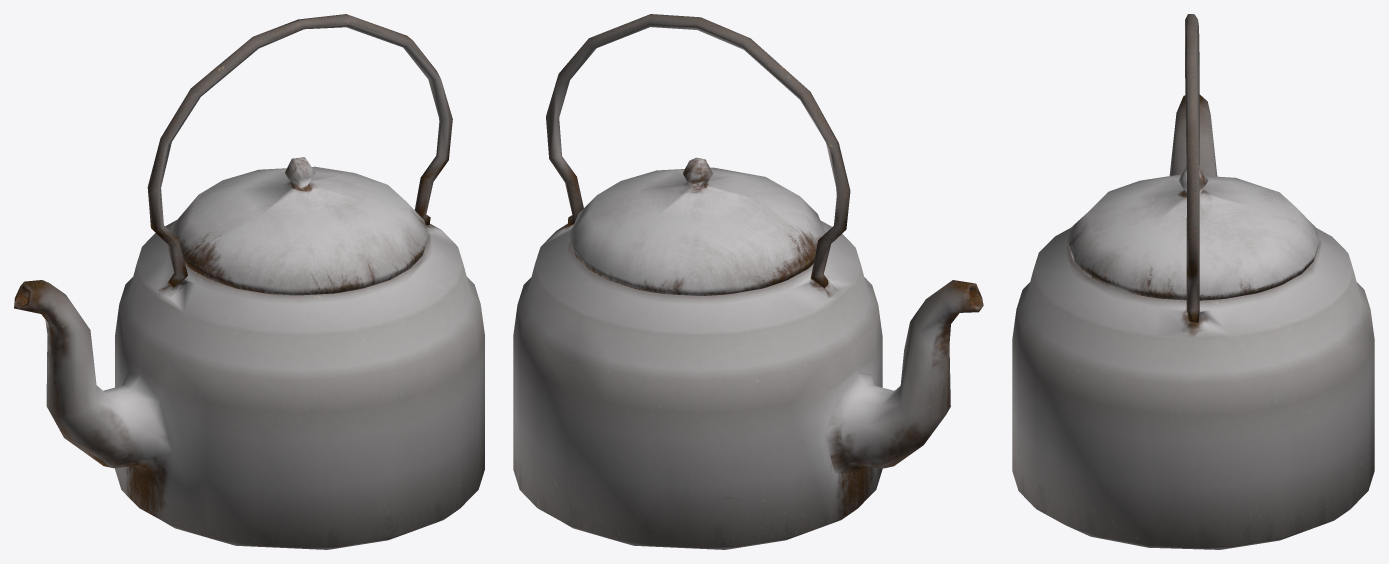
Rendered from metal_tea_pot.glb.
3 views of the same model, side by side, from view 1: azimuth 30°, elevation 25°; view 2: azimuth 150°, elevation 25°; view 3: azimuth 270°, elevation 25° (orthographic). The views are drawn at different scales.
Visible parts, largest first — view 1: metal_tea_pot; view 2: metal_tea_pot; view 3: metal_tea_pot.
Part boxes in pixels (<box>): metal_tea_pot: <box>14,14,484,549</box>; metal_tea_pot: <box>513,14,983,549</box>; metal_tea_pot: <box>1012,14,1374,549</box>.
Bounding box in the file's own units: 1.15 × 1.13 × 0.8306.
2 materials, 2 textured.
